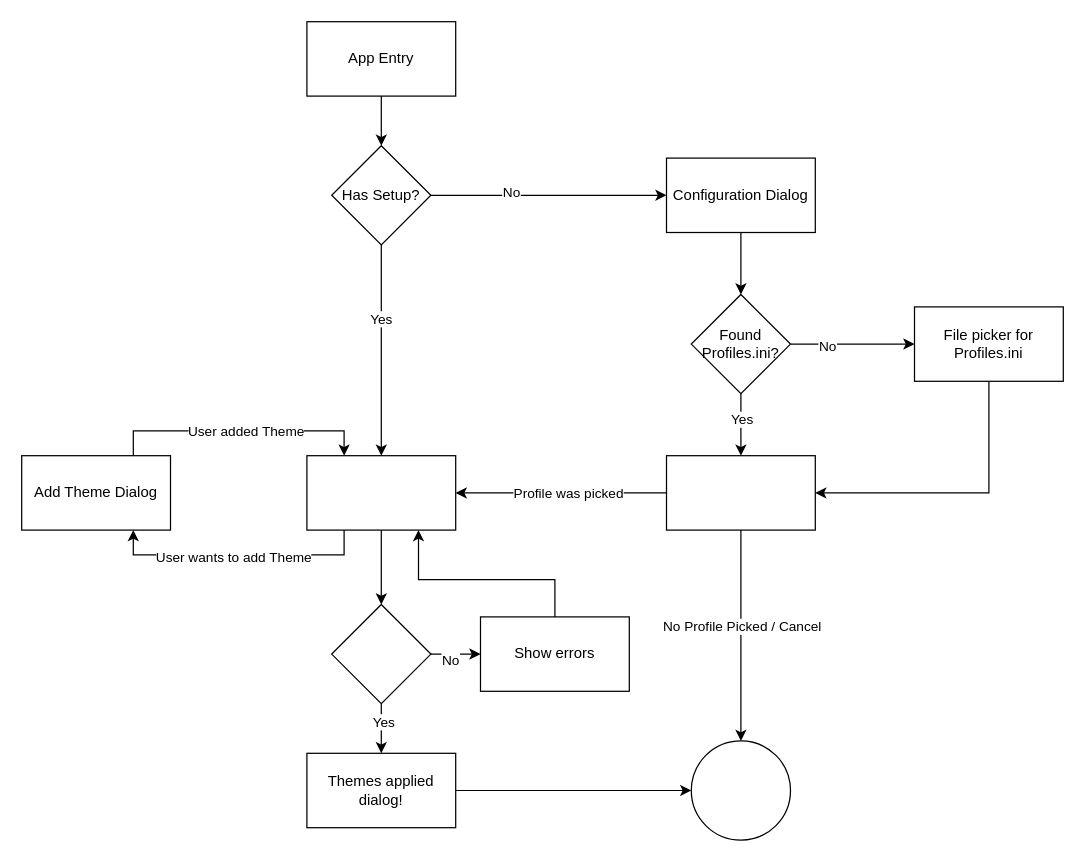
Some shapes in this 1085 by 862 pixel diagram are drawn without their labels. Each missing label, with the centre of its shape:
Exit: (740,790)
Profile Picker: (740,492)
Success?: (380,653)
Themes Menu (With Toggles): (381,492)
